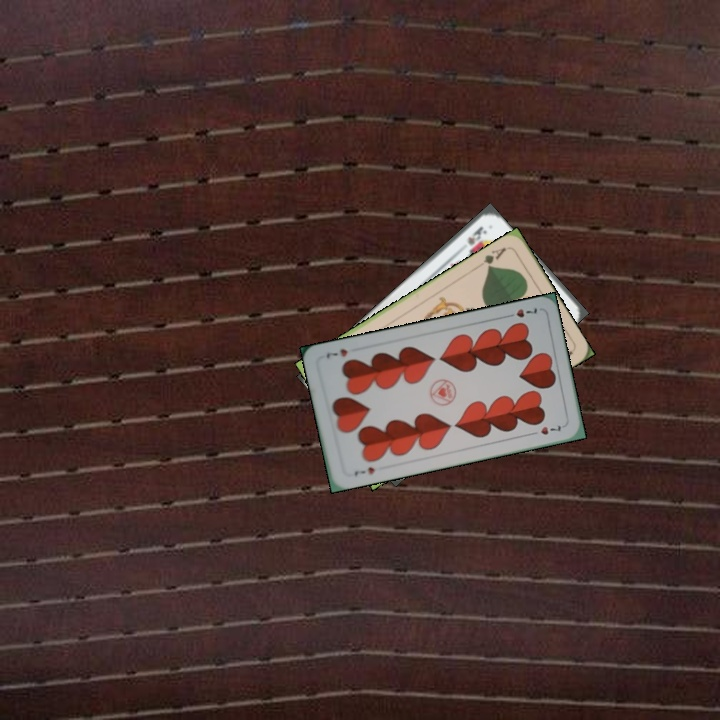GA: (479, 243, 509, 272)
H7: (501, 304, 540, 320), (350, 463, 377, 478)
SK: (463, 222, 489, 248)
